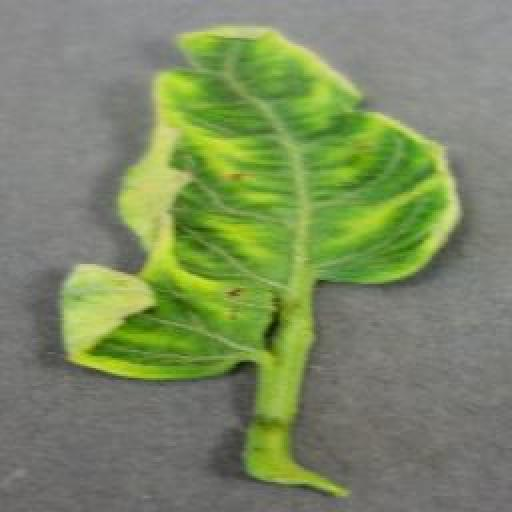disease_tomato: (62, 22, 463, 382)
